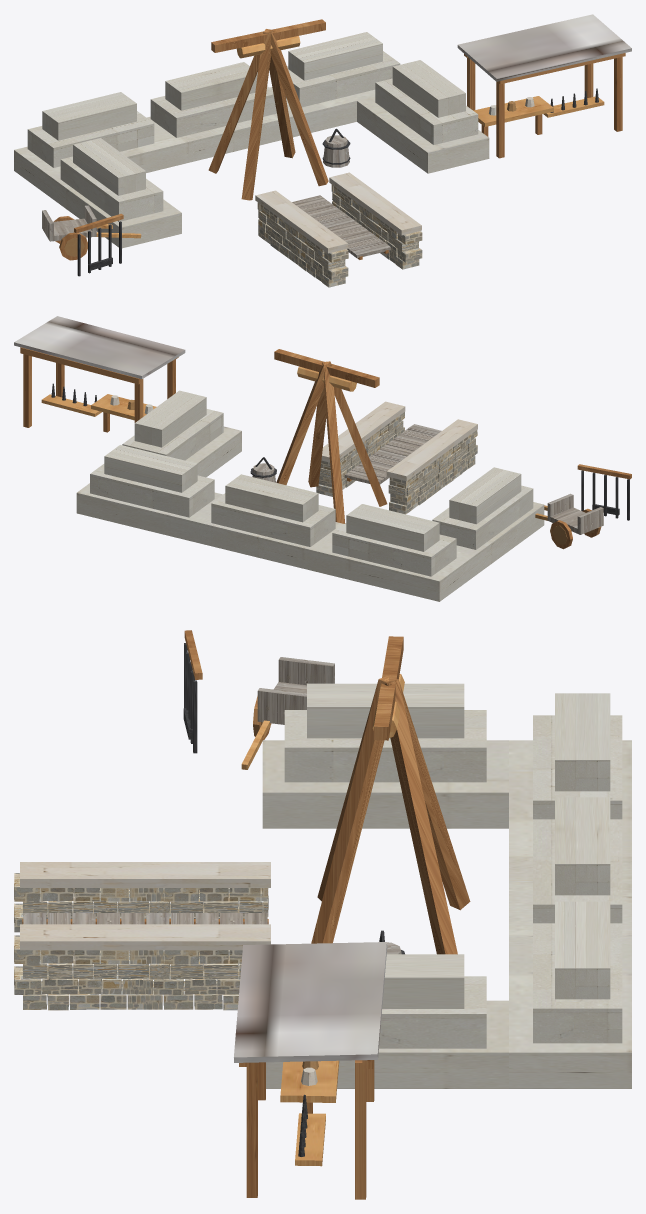
Rendered from large_quarry_textured_v1.glb.
3 views of the same model, one above another, from view 1: azimuth 30°, elevation 25°; view 2: azimuth 150°, elevation 25°; view 3: azimuth 270°, elevation 25° (orthographic). The views are drawn at different scales.
Visible parts, largest first — view 1: LQ_Cut_Bench_East_Return, LQ_Shingle_Sorting_Canopy, LQ_Cut_Bench_West_Return, LQ_Cut_Bench_Rear_Centre, LQ_Cut_Bench_Rear_West, LQ_Large_Timber_Derrick, LQ_Cut_Bench_Rear_East, LQ_Access_Retaining_Wall_West, LQ_Access_Retaining_Wall_East, LQ_Central_Plank_Causeway, LQ_Empty_Stone_Handcart, LQ_Stone_Sorting_Bench (+3 smaller); view 2: LQ_Cut_Bench_Rear_West, LQ_Cut_Bench_Rear_Centre, LQ_Cut_Bench_Rear_East, LQ_Shingle_Sorting_Canopy, LQ_Cut_Bench_West_Return, LQ_Large_Timber_Derrick, LQ_Cut_Bench_East_Return, LQ_Access_Retaining_Wall_West, LQ_Access_Retaining_Wall_East, LQ_Empty_Stone_Handcart, LQ_Central_Plank_Causeway, LQ_Fixed_Quarry_Tool_Rack (+3 smaller); view 3: LQ_Cut_Bench_West_Return, LQ_Shingle_Sorting_Canopy, LQ_Cut_Bench_Rear_East, LQ_Access_Retaining_Wall_East, LQ_Cut_Bench_East_Return, LQ_Large_Timber_Derrick, LQ_Access_Retaining_Wall_West, LQ_Cut_Bench_Rear_West, LQ_Cut_Bench_Rear_Centre, LQ_Empty_Stone_Handcart, LQ_Central_Plank_Causeway, LQ_Stone_Sorting_Bench (+2 smaller).
Boxes of the visible parts, x1,y1,x2,y2 form: LQ_Cut_Bench_East_Return: [357, 60, 489, 173]; LQ_Shingle_Sorting_Canopy: [457, 14, 631, 158]; LQ_Cut_Bench_West_Return: [49, 138, 181, 248]; LQ_Cut_Bench_Rear_Centre: [147, 62, 295, 166]; LQ_Cut_Bench_Rear_West: [14, 92, 172, 196]; LQ_Large_Timber_Derrick: [208, 19, 328, 200]; LQ_Cut_Bench_Rear_East: [269, 32, 400, 136]; LQ_Access_Retaining_Wall_West: [255, 190, 348, 287]; LQ_Access_Retaining_Wall_East: [329, 172, 422, 269]; LQ_Central_Plank_Causeway: [292, 195, 390, 259]; LQ_Empty_Stone_Handcart: [42, 205, 141, 260]; LQ_Stone_Sorting_Bench: [473, 96, 553, 136]; LQ_Cut_Bench_Rear_West: [318, 504, 474, 601]; LQ_Cut_Bench_Rear_Centre: [197, 474, 343, 572]; LQ_Cut_Bench_Rear_East: [76, 445, 222, 542]; LQ_Shingle_Sorting_Canopy: [14, 316, 185, 427]; LQ_Cut_Bench_West_Return: [432, 467, 544, 575]; LQ_Large_Timber_Derrick: [274, 349, 387, 523]; LQ_Cut_Bench_East_Return: [122, 390, 241, 477]; LQ_Access_Retaining_Wall_West: [386, 419, 477, 514]; LQ_Access_Retaining_Wall_East: [316, 401, 405, 496]; LQ_Empty_Stone_Handcart: [535, 493, 603, 549]; LQ_Central_Plank_Causeway: [344, 424, 441, 484]; LQ_Fixed_Quarry_Tool_Rack: [577, 464, 631, 520]; LQ_Cut_Bench_West_Return: [262, 683, 508, 828]; LQ_Shingle_Sorting_Canopy: [234, 942, 387, 1199]; LQ_Cut_Bench_Rear_East: [509, 901, 631, 1088]; LQ_Access_Retaining_Wall_East: [14, 924, 270, 1010]; LQ_Cut_Bench_East_Return: [266, 954, 508, 1088]; LQ_Large_Timber_Derrick: [311, 636, 470, 954]; LQ_Access_Retaining_Wall_West: [14, 862, 270, 932]; LQ_Cut_Bench_Rear_West: [509, 693, 631, 844]; LQ_Cut_Bench_Rear_Centre: [509, 797, 631, 948]; LQ_Empty_Stone_Handcart: [241, 657, 334, 769]; LQ_Central_Plank_Causeway: [22, 912, 268, 924]; LQ_Stone_Sorting_Bench: [280, 1060, 339, 1113].
Bounding box in the file's own units: 18.63 × 5.23 × 10.04.
Materials: 10 (10 with a texture image).
